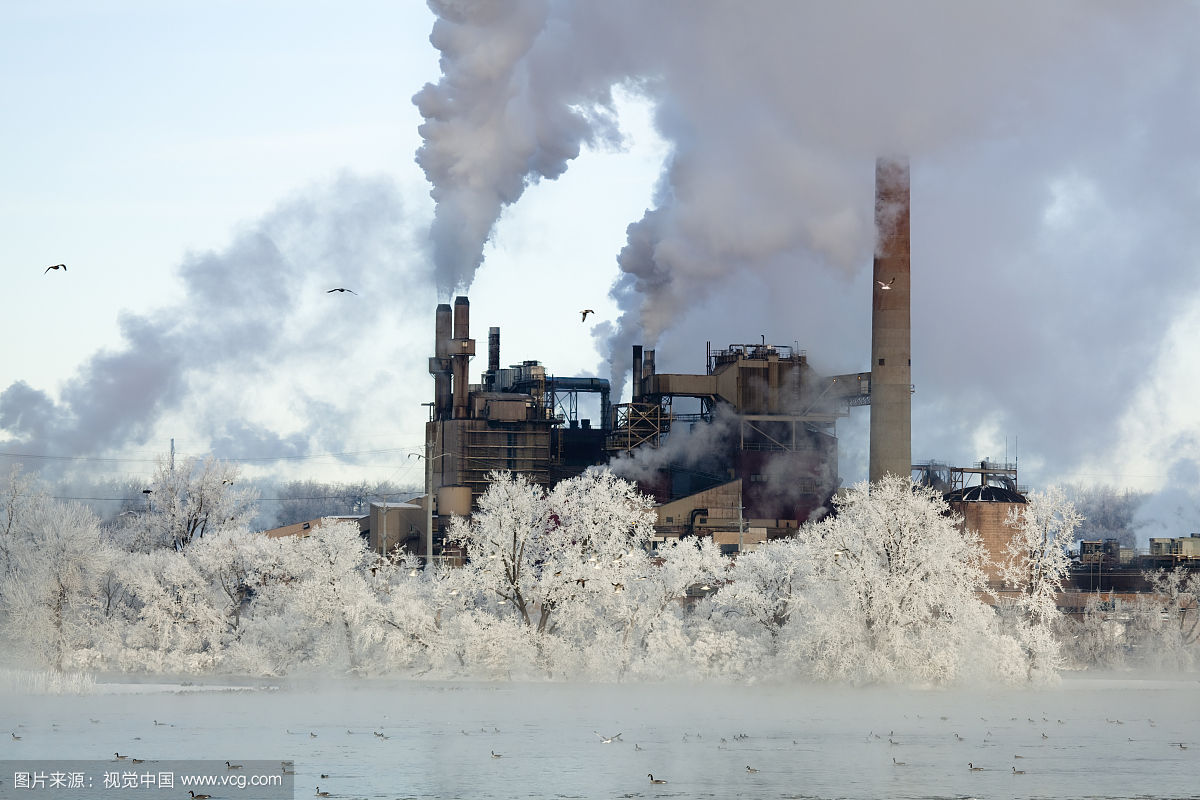dust: (1, 206, 282, 477), (379, 13, 594, 323), (605, 108, 768, 369)
